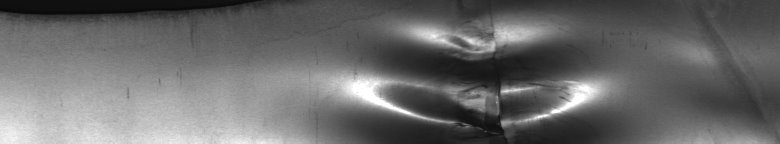ke: (4, 4, 603, 136)
